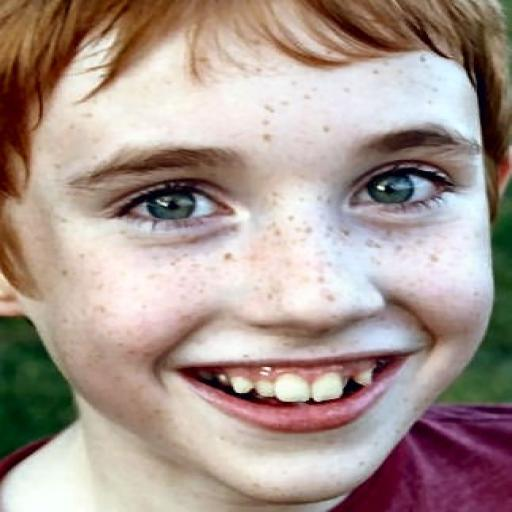Autism: (24, 8, 512, 492)
